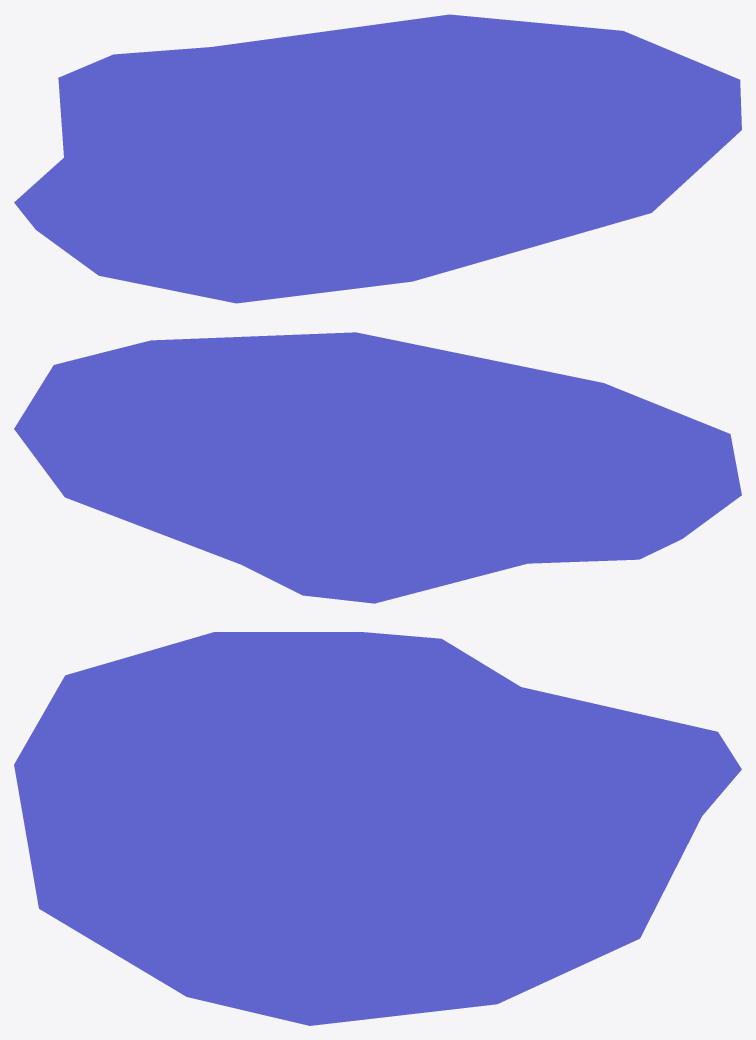
The model's file is Island_PondFoam1.fbx.
3 renders of one model, top to bottom at view 1: azimuth 30°, elevation 25°; view 2: azimuth 150°, elevation 25°; view 3: azimuth 270°, elevation 25°, orthographic. The views are drawn at different scales.
Visible parts, largest first — view 1: Island.Pond.1; view 2: Island.Pond.1; view 3: Island.Pond.1.
Boxes of the visible parts, x1=… form: Island.Pond.1: x1=14, y1=14, x2=741, y2=303; Island.Pond.1: x1=14, y1=332, x2=741, y2=603; Island.Pond.1: x1=14, y1=632, x2=741, y2=1025.
Bounding box in the file's own units: 980 × 0 × 765.
